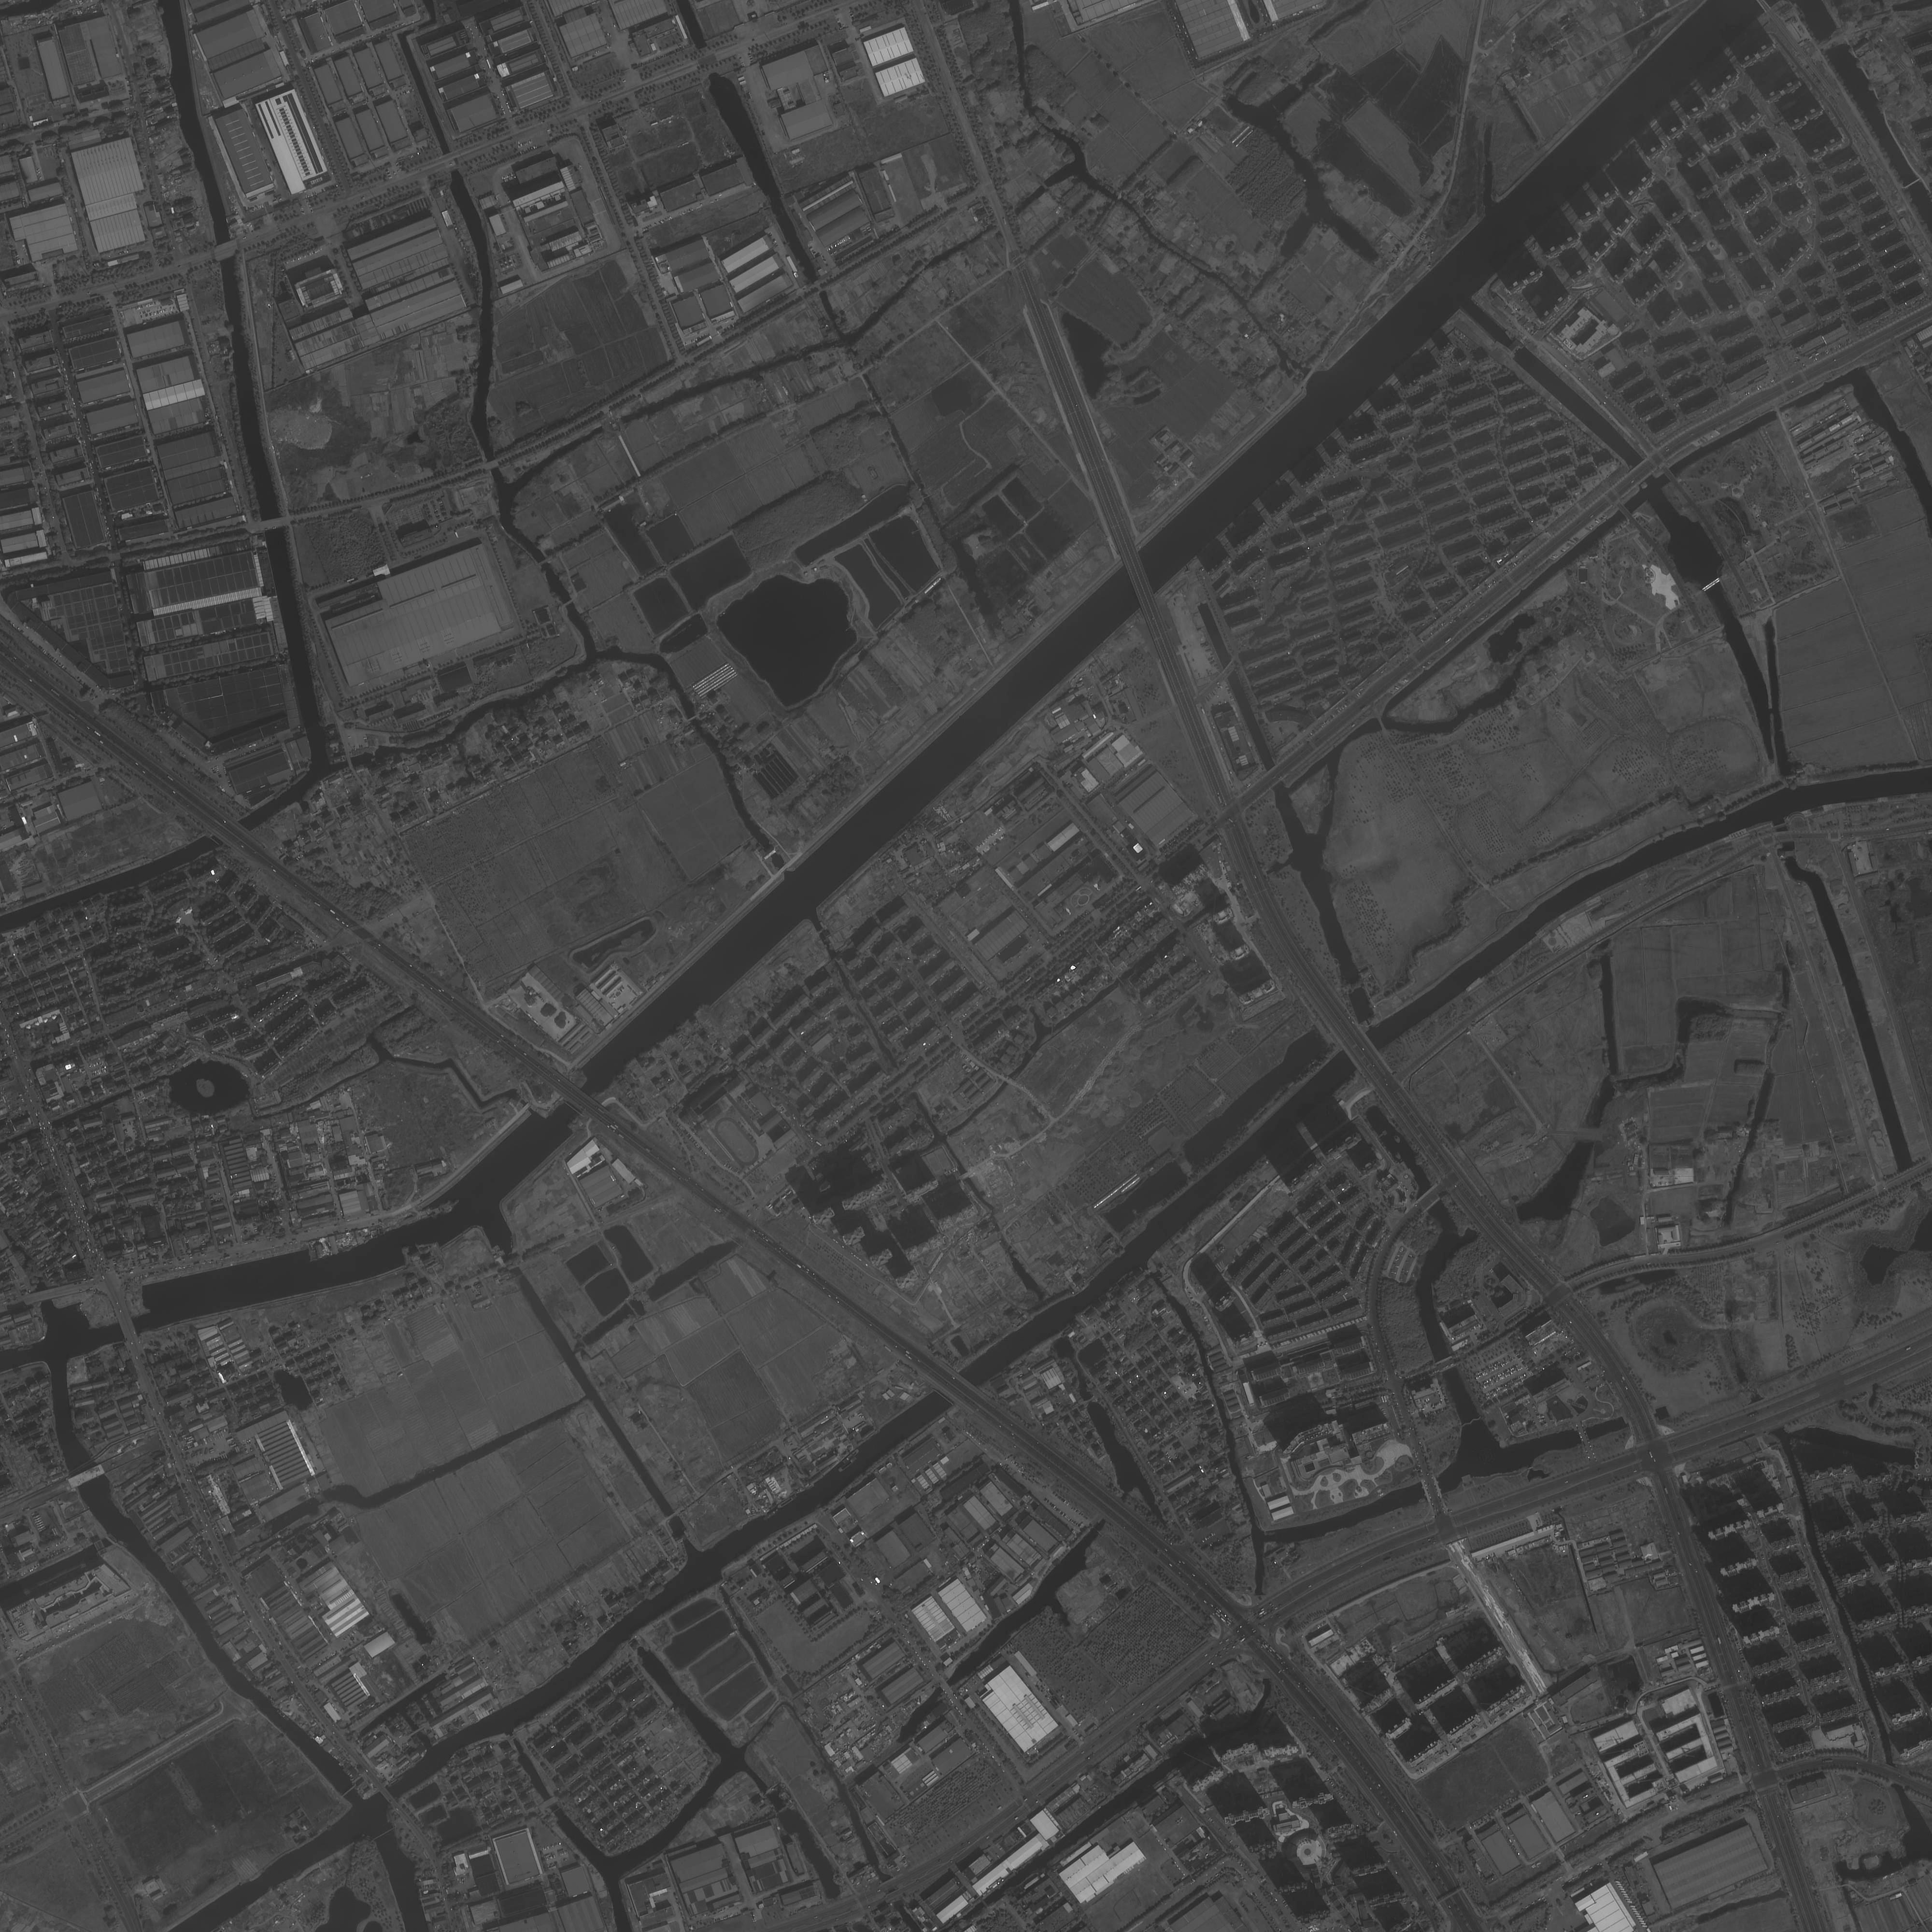bridge: (1122, 548, 1157, 607), (934, 1368, 980, 1410), (1341, 1030, 1380, 1072), (205, 812, 249, 849), (559, 1079, 596, 1113), (67, 1465, 106, 1490), (1629, 455, 1660, 485), (695, 44, 722, 76), (209, 239, 241, 264), (117, 1315, 140, 1343), (1421, 1476, 1442, 1500), (260, 517, 288, 533), (30, 1288, 58, 1304), (379, 1787, 400, 1808), (1263, 766, 1284, 787), (1435, 1355, 1456, 1373), (1223, 658, 1237, 679), (810, 278, 828, 294), (936, 1675, 952, 1693), (1702, 577, 1720, 591), (541, 1796, 559, 1810), (485, 458, 502, 472), (1576, 1428, 1591, 1445), (1665, 467, 1677, 485), (777, 862, 791, 876), (1776, 833, 1792, 844), (665, 1511, 678, 1522), (412, 1727, 423, 1736)
ship: (777, 1493, 798, 1509), (763, 1506, 780, 1520)
